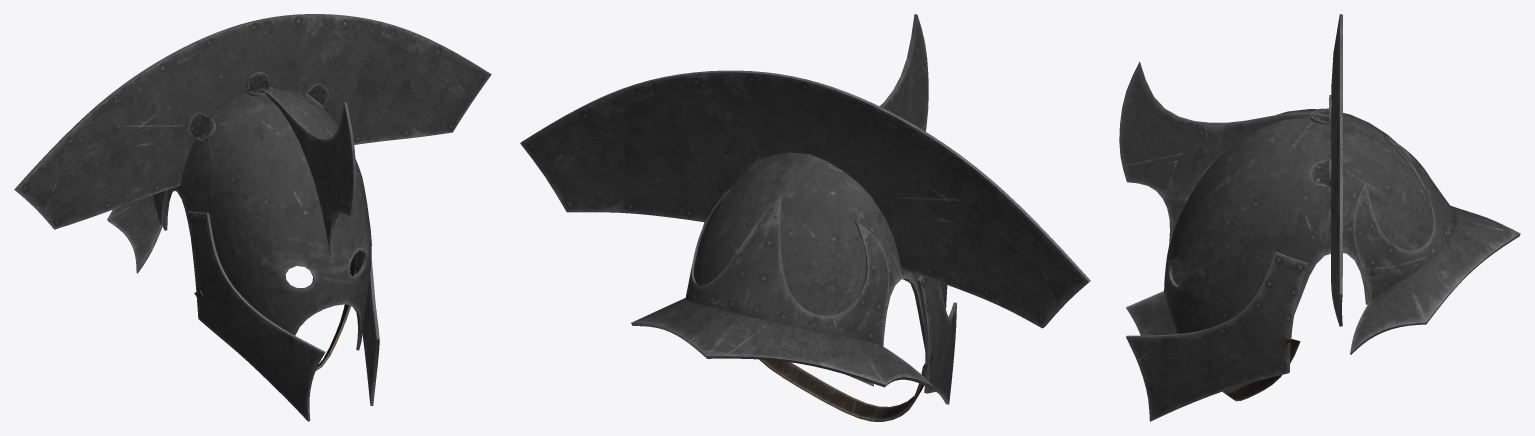
Rendered from sk_uruk_hai_helmet_command_a3.fbx.
The picture shows the model from 3 angles, left to right: view 1: azimuth 30°, elevation 25°; view 2: azimuth 150°, elevation 25°; view 3: azimuth 270°, elevation 25°; orthographic projection. The views are drawn at different scales.
Visible parts, largest first — view 1: sk_uruk_hai_helmet_command_a3.0, sk_uruk_hai_helmet_command_a3.1; view 2: sk_uruk_hai_helmet_command_a3.0, sk_uruk_hai_helmet_command_a3.1; view 3: sk_uruk_hai_helmet_command_a3.0, sk_uruk_hai_helmet_command_a3.1.
Boxes of the visible parts, <box> form: sk_uruk_hai_helmet_command_a3.0: <box>14,14,491,421</box>; sk_uruk_hai_helmet_command_a3.1: <box>194,256,355,370</box>; sk_uruk_hai_helmet_command_a3.0: <box>520,14,1090,404</box>; sk_uruk_hai_helmet_command_a3.1: <box>759,354,932,421</box>; sk_uruk_hai_helmet_command_a3.0: <box>1119,14,1520,421</box>; sk_uruk_hai_helmet_command_a3.1: <box>1222,338,1300,401</box>.
Bounding box in the file's own units: 0.5669 × 0.3803 × 0.3733.
2 materials, 2 textured.
